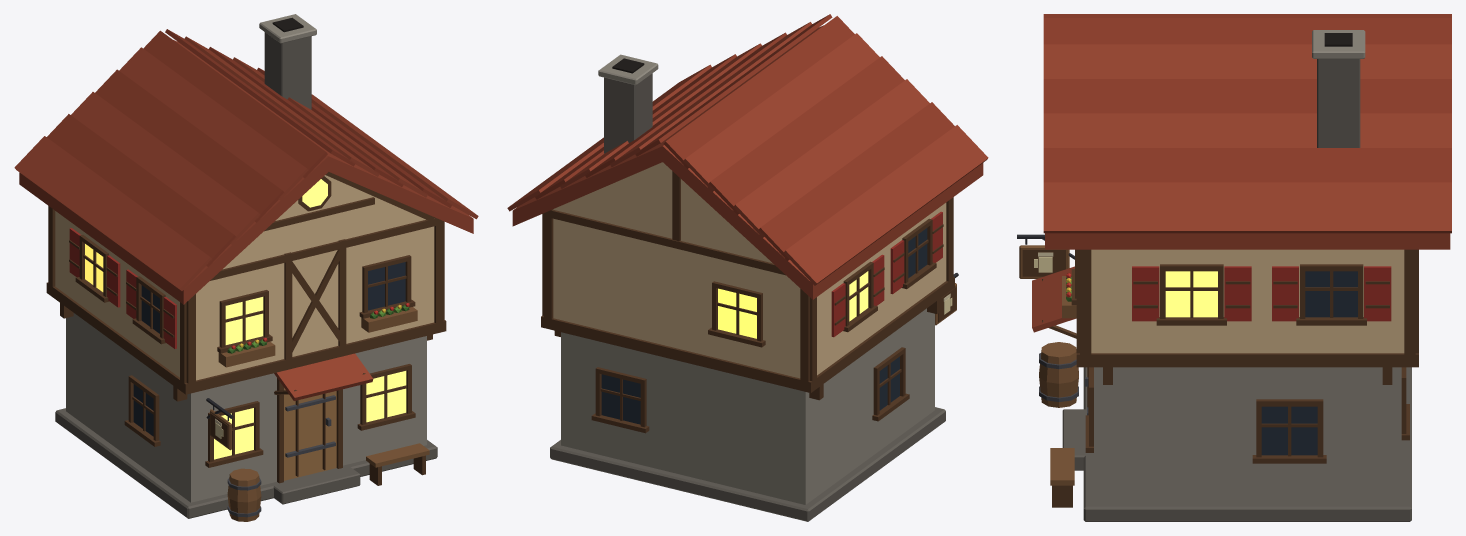
File: town_house_c.glb
3 views of the same model, side by side, from view 1: azimuth 30°, elevation 25°; view 2: azimuth 150°, elevation 25°; view 3: azimuth 270°, elevation 25° (orthographic). The views are drawn at different scales.
Parts seen in each view (by area): view 1: town_house_c; view 2: town_house_c; view 3: town_house_c.
Boxes of the visible parts, x1,y1,x2,y2 form: town_house_c: (14, 14, 478, 521); town_house_c: (507, 14, 988, 521); town_house_c: (1017, 14, 1451, 521).
Bounding box in the file's own units: 6.08 × 7.2 × 6.22.
